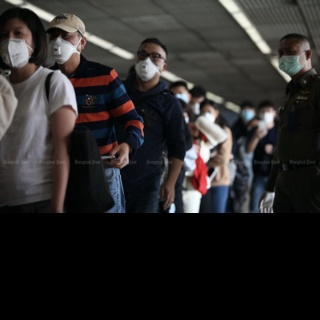with_mask: (0, 26, 30, 71), (47, 30, 74, 66), (135, 48, 160, 81), (278, 45, 304, 76), (260, 106, 276, 124), (188, 100, 204, 116), (171, 89, 188, 104), (200, 109, 217, 124), (240, 106, 256, 121)
